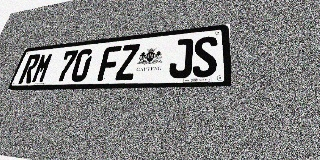0: (69, 48, 94, 82)
7: (54, 50, 79, 82)
F: (97, 45, 122, 81)
J: (168, 38, 193, 78)
M: (30, 52, 54, 83)
R: (18, 54, 41, 84)
S: (192, 36, 217, 78)
Z: (115, 44, 140, 80)
